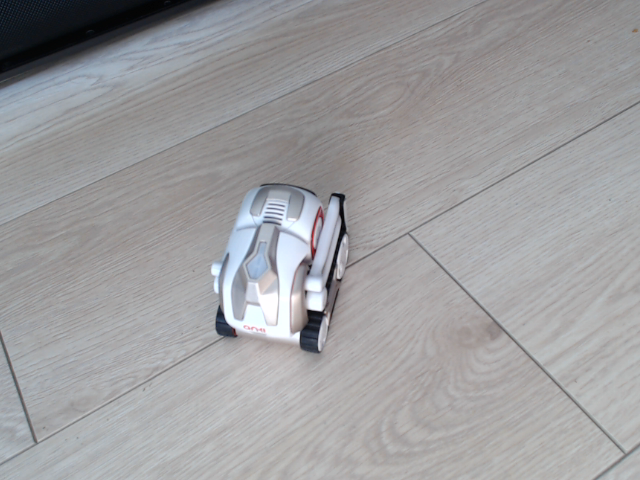cozmo: (209, 181, 352, 355)
